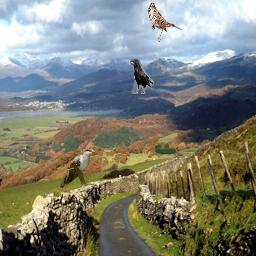Crow: (130, 59, 154, 94)
Cuckoo: (60, 148, 96, 188)
Sparrow: (147, 2, 182, 42)
